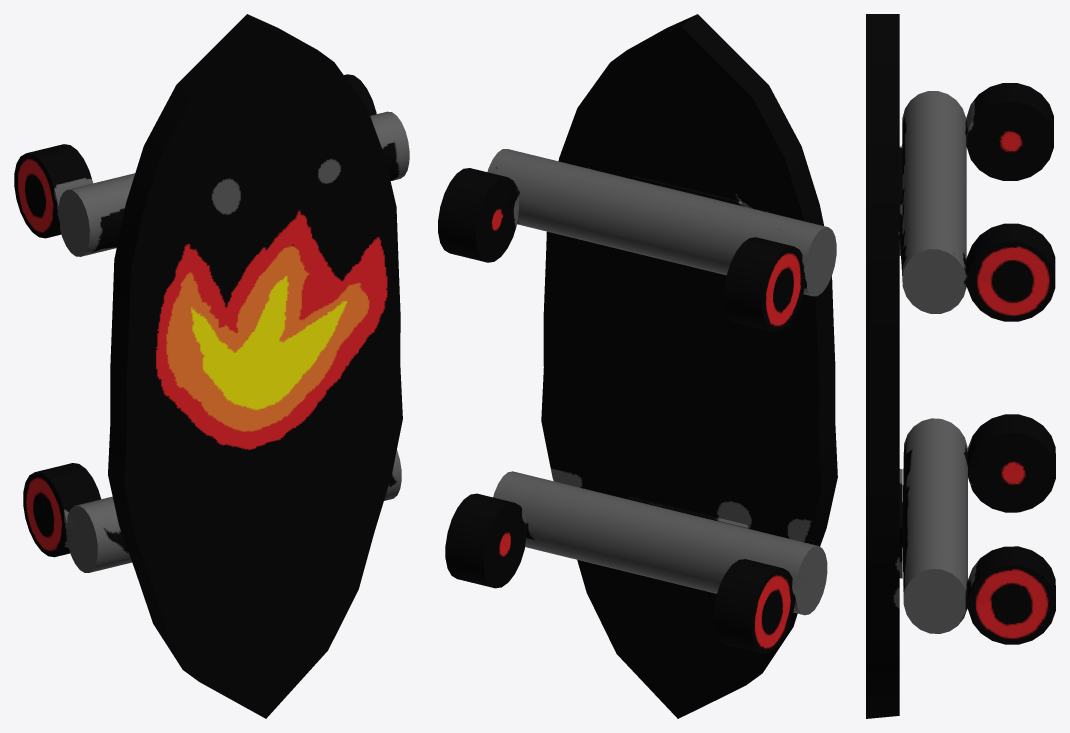
The model's file is SkateBoard.fbx.
3 views of the same model, side by side, from view 1: azimuth 30°, elevation 25°; view 2: azimuth 150°, elevation 25°; view 3: azimuth 270°, elevation 25° (orthographic).
Parts seen in each view (by area): view 1: node_id4; view 2: node_id4; view 3: node_id4.
Part boxes in pixels (bbox=[...]): node_id4: bbox=[14, 14, 409, 718]; node_id4: bbox=[438, 14, 837, 718]; node_id4: bbox=[866, 14, 1055, 718].
Size of the model in its own units: 0.2487 by 0.512 by 0.1251.
1 material, 1 textured.
